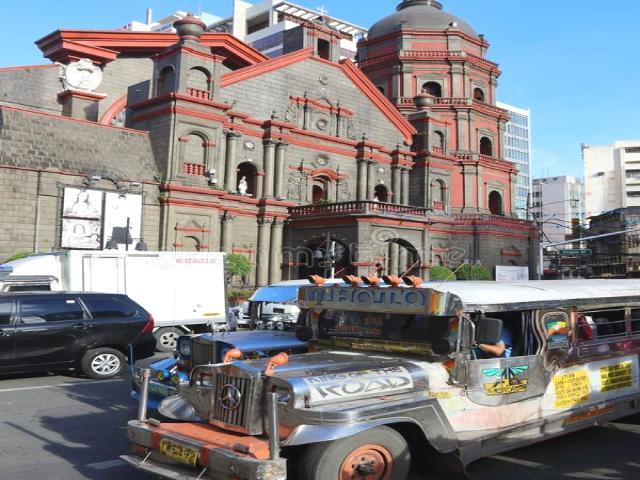jeepney: (137, 266, 639, 480)
